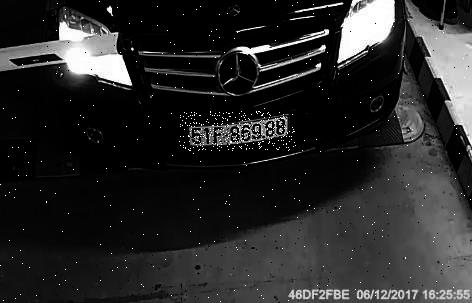License-plate: (181, 112, 297, 152)
